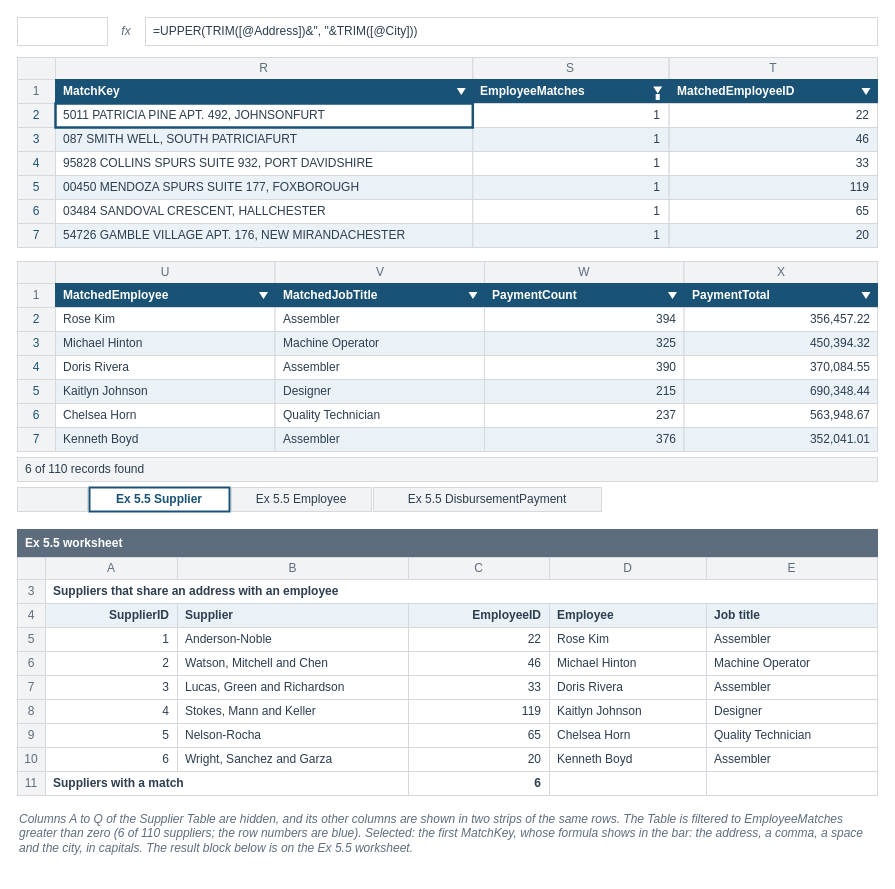
Image size: 895x889. Some labels were removed from this diagram. The shapes that lost their labels are listed below. From the top down, each one's centre as x and y in pixels, then its label:
At pixel 62 31: "R2".
At pixel 52 499: "Ex 5.5".
